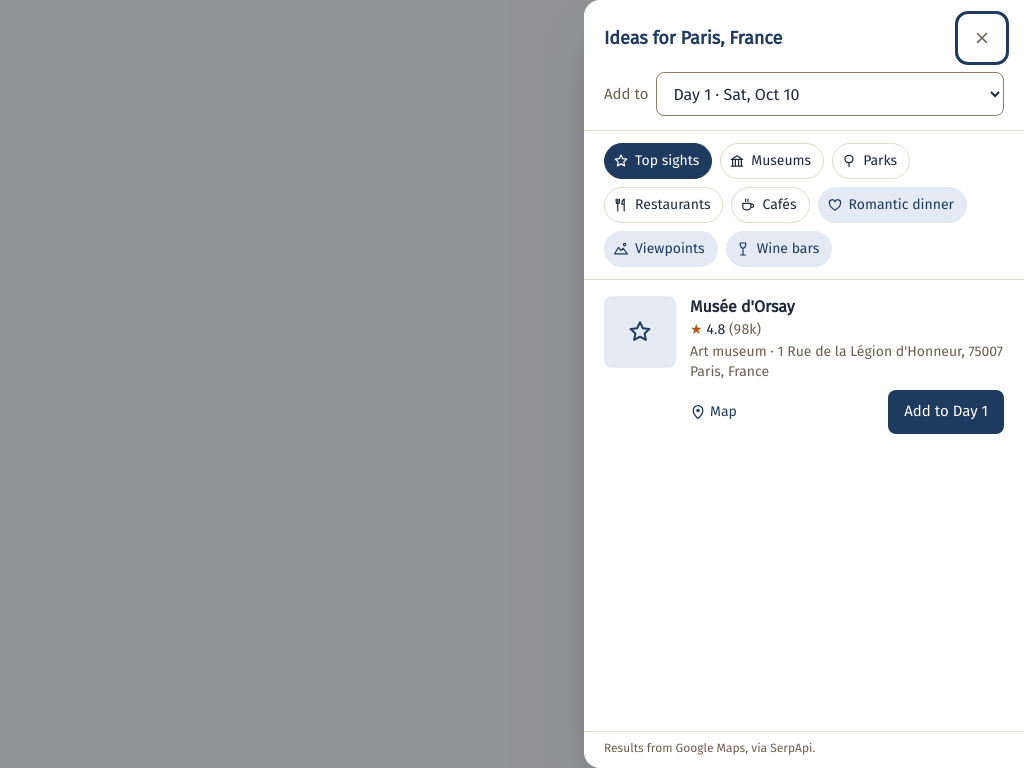
it: IdeasPanel › adds an idea to the picked day as an activity, then shows it as added
This screenshot has width=1024, height=768.
Expected: the text "Musée d'Orsay" is shown, [690, 297, 795, 316]
Select "Day 3 · Mon, Oct 12" in the dropdown labelled "Add to": (830, 94) [656, 72, 1004, 116]
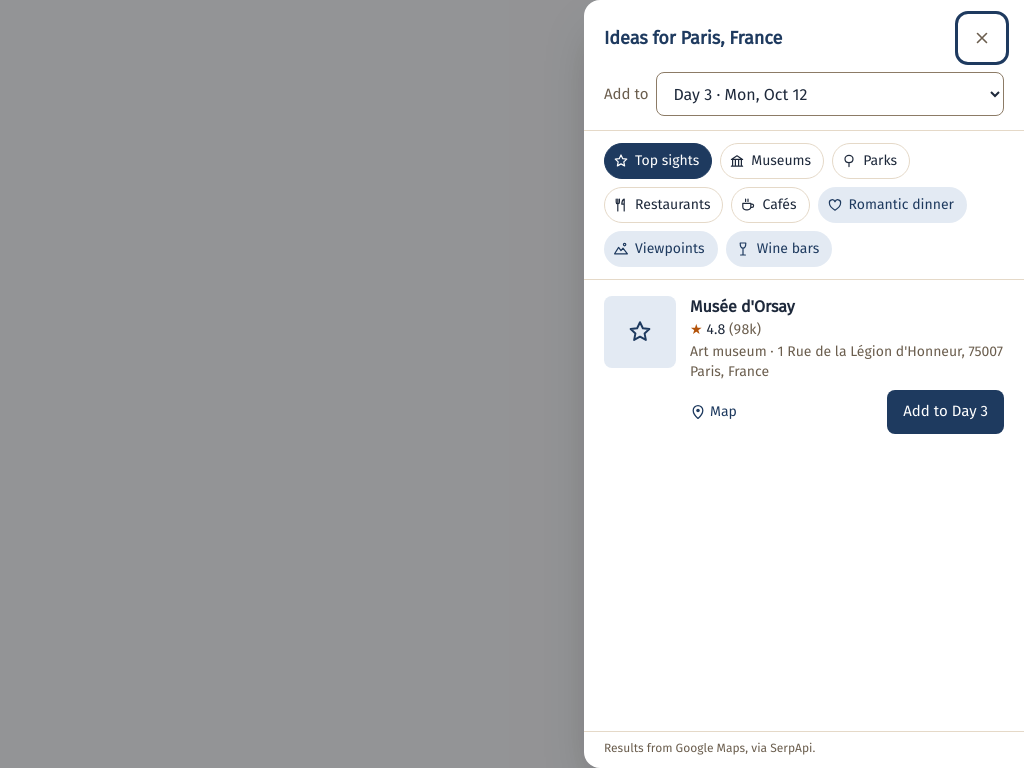
Click the button with aria-label "Add Musée d'Orsay to Day 3": (946, 412) [887, 390, 1004, 434]
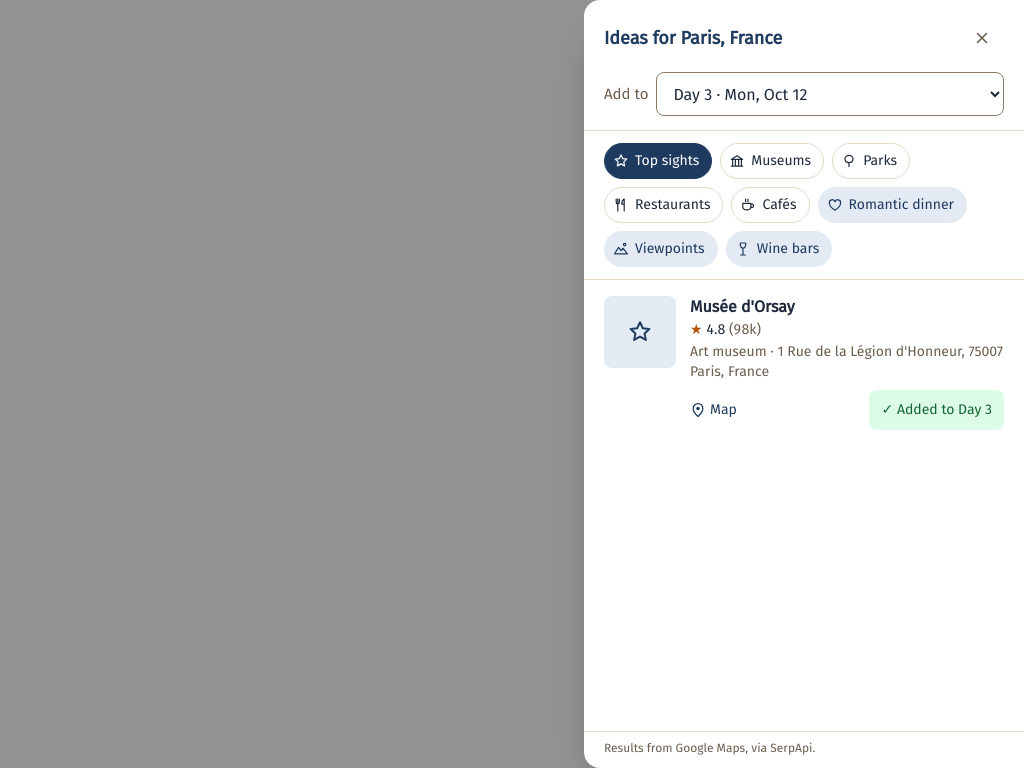
Expected: the button "✓ Added to Day 3" is disabled, [870, 390, 1004, 430]
Another day can still get the same idea.
Select "Day 4 · Tue, Oct 13" in the dropdown labelled "Add to": (830, 94) [656, 72, 1004, 116]
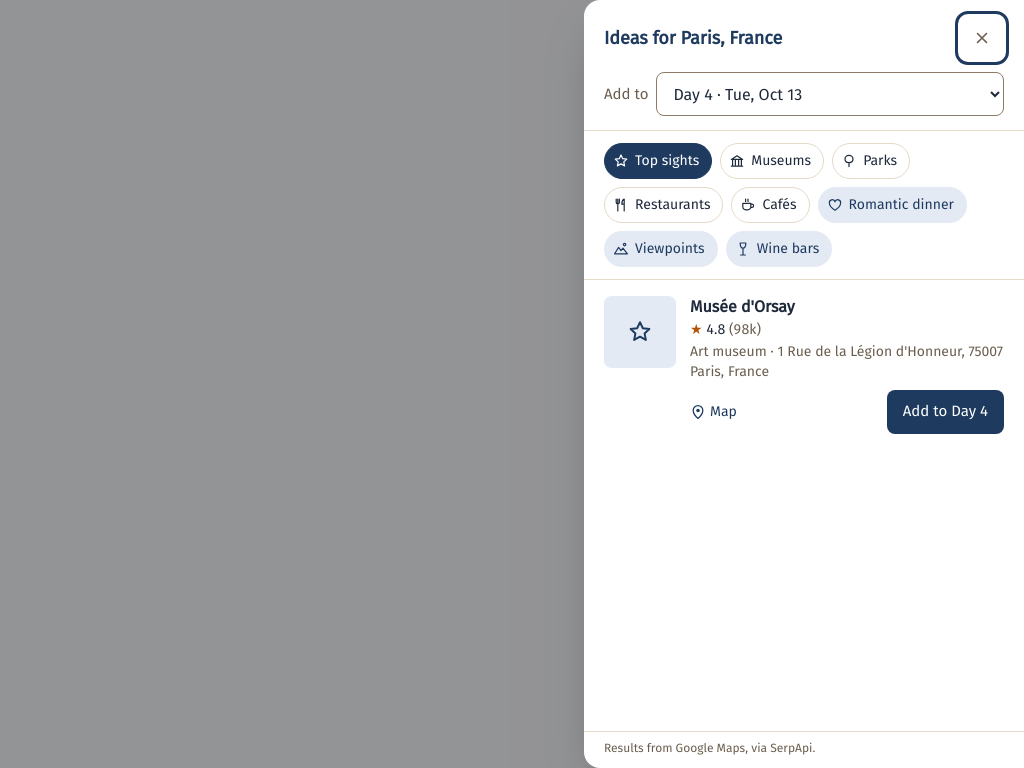
Expected: the button with aria-label "Add Musée d'Orsay to Day 4" is enabled, [887, 390, 1004, 434]
